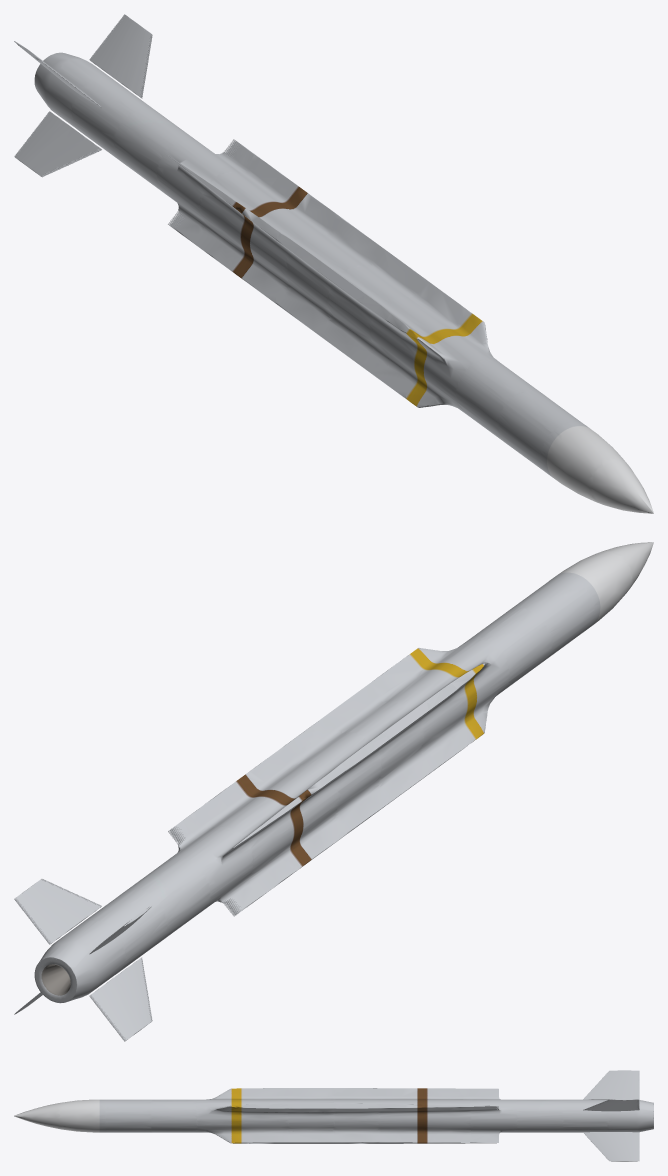
Rendered from micaem.glb.
3 views of the same model, one above another, from view 1: azimuth 30°, elevation 25°; view 2: azimuth 150°, elevation 25°; view 3: azimuth 270°, elevation 25° (orthographic). The views are drawn at different scales.
Parts seen in each view (by area): view 1: airframe, fsim:fin:3419906077:1|elevator+aileron:1+rudder:1@-20,20, fsim:fin:3899119507:1|elevator+aileron:-1+rudder:1@-20,20; view 2: airframe, fsim:fin:3899119507:1|elevator+aileron:-1+rudder:1@-20,20, fsim:fin:3419906077:1|elevator+aileron:1+rudder:1@-20,20; view 3: airframe, fsim:fin:1916934482:1|elevator+aileron:1+rudder:-1@-20,20, fsim:fin:453677541:1|elevator+aileron:-1+rudder:-1@-20,20, fsim:fin:3419906077:1|elevator+aileron:1+rudder:1@-20,20.
Part boxes in pixels (<box>): airframe: <box>34,52,653,513</box>; fsim:fin:3419906077:1|elevator+aileron:1+rudder:1@-20,20: <box>89,14,152,98</box>; fsim:fin:3899119507:1|elevator+aileron:-1+rudder:1@-20,20: <box>14,111,101,177</box>; airframe: <box>34,542,653,1003</box>; fsim:fin:3899119507:1|elevator+aileron:-1+rudder:1@-20,20: <box>89,957,152,1041</box>; fsim:fin:3419906077:1|elevator+aileron:1+rudder:1@-20,20: <box>14,878,101,944</box>; airframe: <box>14,1088,653,1143</box>; fsim:fin:1916934482:1|elevator+aileron:1+rudder:-1@-20,20: <box>583,1132,639,1161</box>; fsim:fin:453677541:1|elevator+aileron:-1+rudder:-1@-20,20: <box>583,1070,639,1099</box>; fsim:fin:3419906077:1|elevator+aileron:1+rudder:1@-20,20: <box>583,1098,639,1111</box>.
Size of the model in its own units: 0.3356 by 0.3361 by 3.1.
Materials: 3 (1 with a texture image).
